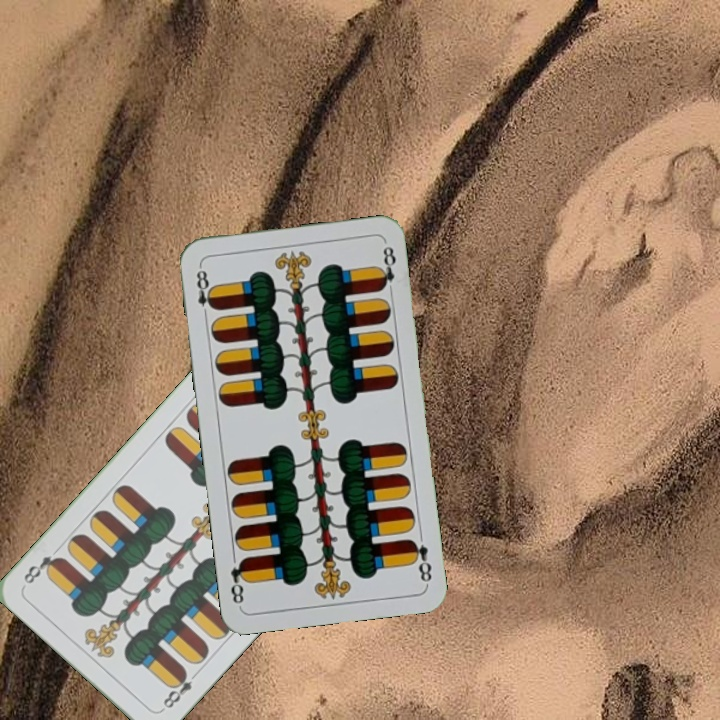E8: (157, 665, 202, 714), (192, 261, 218, 321), (406, 535, 435, 586)
